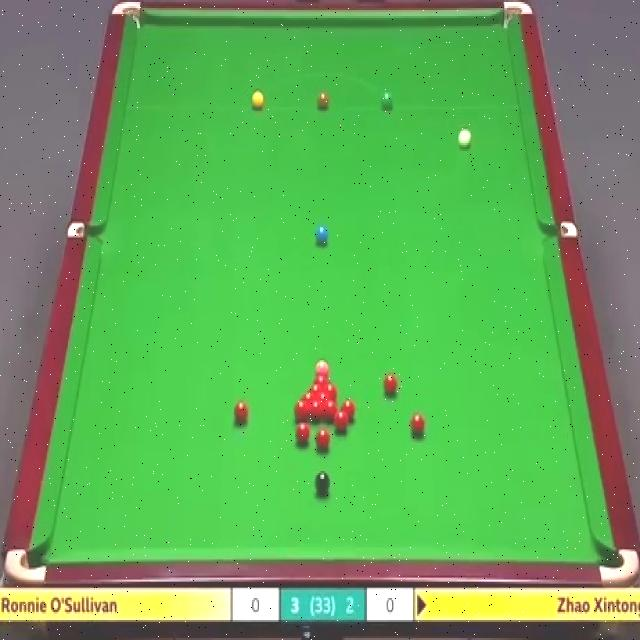black-ball: (315, 471, 331, 497)
blue-ball: (315, 225, 329, 245)
brown-ball: (316, 92, 329, 110)
green-ball: (381, 90, 394, 111)
pink-ball: (314, 358, 328, 371)
red-ball: (410, 410, 427, 439), (232, 400, 249, 424), (383, 373, 398, 398), (296, 421, 311, 443), (293, 399, 308, 421), (323, 400, 338, 422), (316, 428, 330, 451), (341, 399, 355, 422), (334, 412, 348, 434), (309, 399, 322, 420), (324, 382, 338, 398), (312, 372, 329, 382), (308, 382, 323, 392), (315, 391, 331, 400), (301, 392, 315, 401)
white-ball: (458, 126, 472, 151)
yellow-ball: (250, 91, 264, 110)
